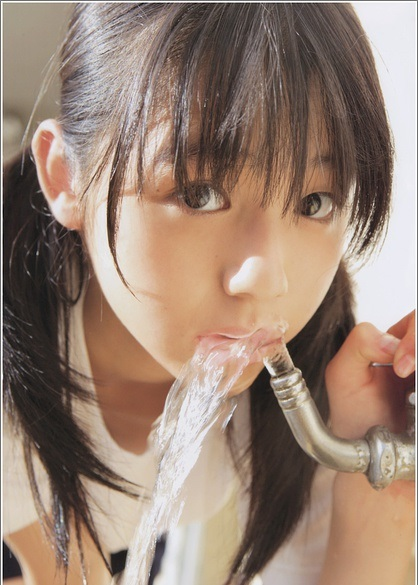face: (112, 44, 358, 394)
